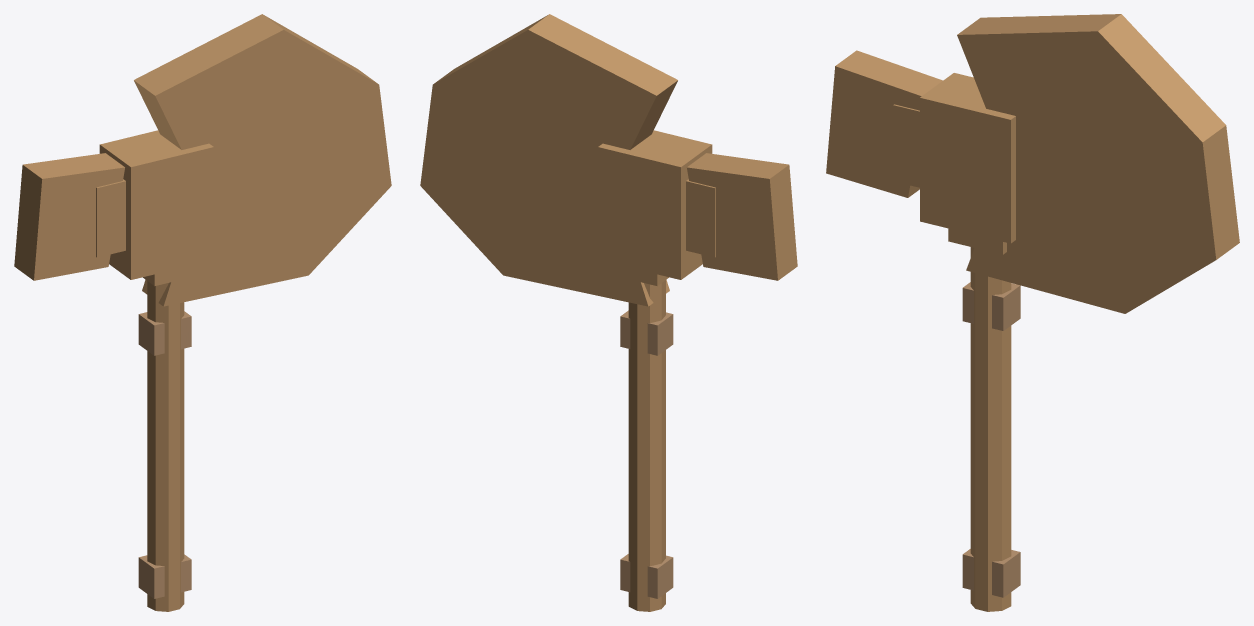
Rendered from woodenAxe.glb.
3 views of the same model, side by side, from view 1: azimuth 30°, elevation 25°; view 2: azimuth 150°, elevation 25°; view 3: azimuth 330°, elevation 25° (orthographic). The views are drawn at different scales.
Visible parts, largest first — view 1: AxeBlade, AxeEye, Handle, AxePoll, AxeHeadBridge, GripWrapHigh, GripWrapLow, ToolHeadSocket; view 2: AxeBlade, AxeEye, Handle, AxePoll, AxeHeadBridge, GripWrapLow, GripWrapHigh, ToolHeadSocket; view 3: AxeBlade, AxeEye, Handle, AxePoll, AxeHeadBridge, GripWrapLow, GripWrapHigh, ToolHeadSocket.
Part boxes in pixels (x1=…): AxeBlade: x1=134, y1=14, x2=391, y2=306; AxeEye: x1=99, y1=130, x2=213, y2=279; Handle: x1=147, y1=281, x2=184, y2=611; AxePoll: x1=14, y1=153, x2=124, y2=280; AxeHeadBridge: x1=96, y1=140, x2=296, y2=257; GripWrapHigh: x1=138, y1=311, x2=191, y2=355; GripWrapLow: x1=138, y1=554, x2=191, y2=598; ToolHeadSocket: x1=143, y1=262, x2=204, y2=285; AxeBlade: x1=420, y1=14, x2=677, y2=306; AxeEye: x1=598, y1=130, x2=712, y2=279; Handle: x1=628, y1=280, x2=665, y2=611; AxePoll: x1=687, y1=153, x2=797, y2=280; AxeHeadBridge: x1=515, y1=140, x2=715, y2=257; GripWrapLow: x1=620, y1=554, x2=673, y2=598; GripWrapHigh: x1=620, y1=310, x2=673, y2=355; ToolHeadSocket: x1=607, y1=262, x2=668, y2=285; AxeBlade: x1=957, y1=14, x2=1239, y2=313; AxeEye: x1=920, y1=73, x2=1015, y2=243; Handle: x1=970, y1=247, x2=1011, y2=611; AxePoll: x1=826, y1=50, x2=942, y2=197; AxeHeadBridge: x1=893, y1=104, x2=1111, y2=234; GripWrapLow: x1=962, y1=549, x2=1020, y2=597; GripWrapHigh: x1=962, y1=282, x2=1020, y2=330; ToolHeadSocket: x1=948, y1=228, x2=1006, y2=254.
Size of the model in its own units: 0.86 by 1.28 by 0.13.
